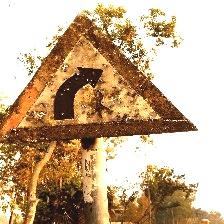Right-turn: (1, 10, 197, 142)
